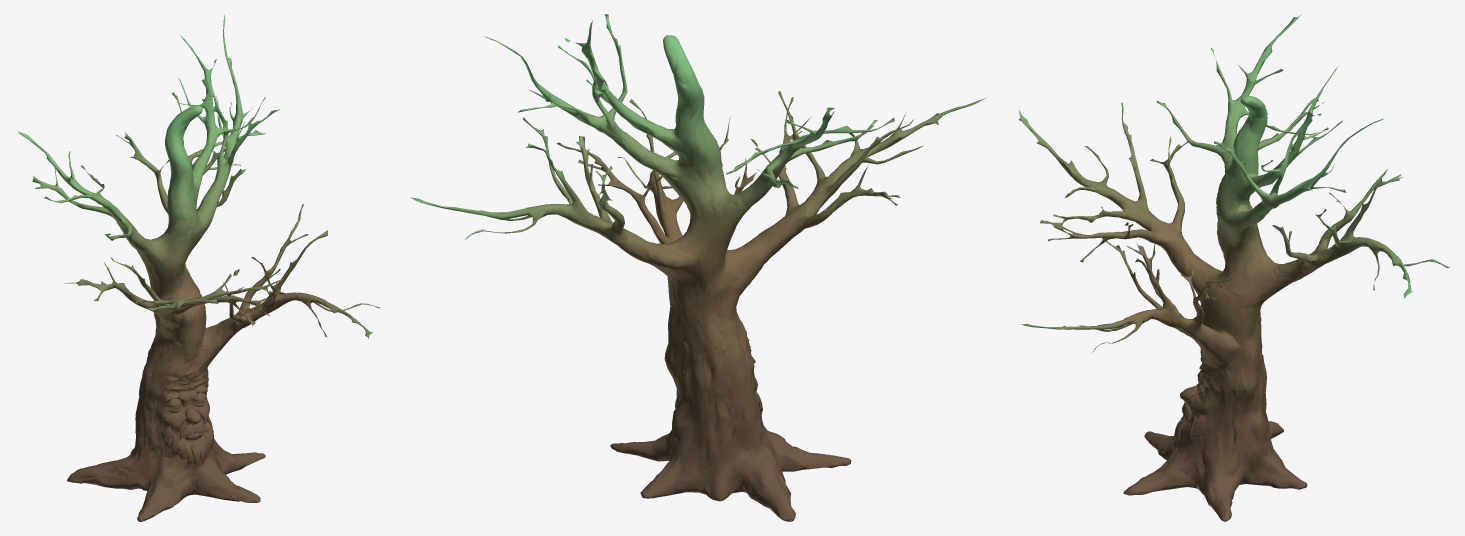
File: krishi-tree.glb
The picture shows the model from 3 angles, left to right: view 1: azimuth 30°, elevation 25°; view 2: azimuth 150°, elevation 25°; view 3: azimuth 270°, elevation 25°; orthographic projection. The views are drawn at different scales.
Parts seen in each view (by area): view 1: tree; view 2: tree; view 3: tree.
Boxes of the visible parts, box(x1,y1,x2,y2) form: tree: box(18, 15, 380, 521); tree: box(410, 14, 985, 521); tree: box(1018, 14, 1449, 521).
Size of the model in its own units: 1.64 by 2 by 1.8.
